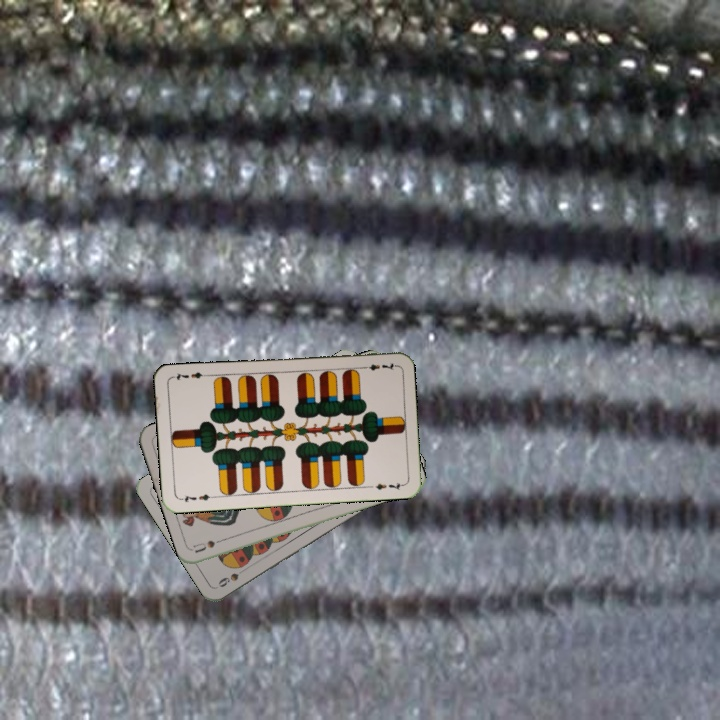E7: (176, 490, 217, 505), (357, 358, 398, 373)
S9: (214, 563, 251, 590)
SU: (190, 533, 230, 555)
